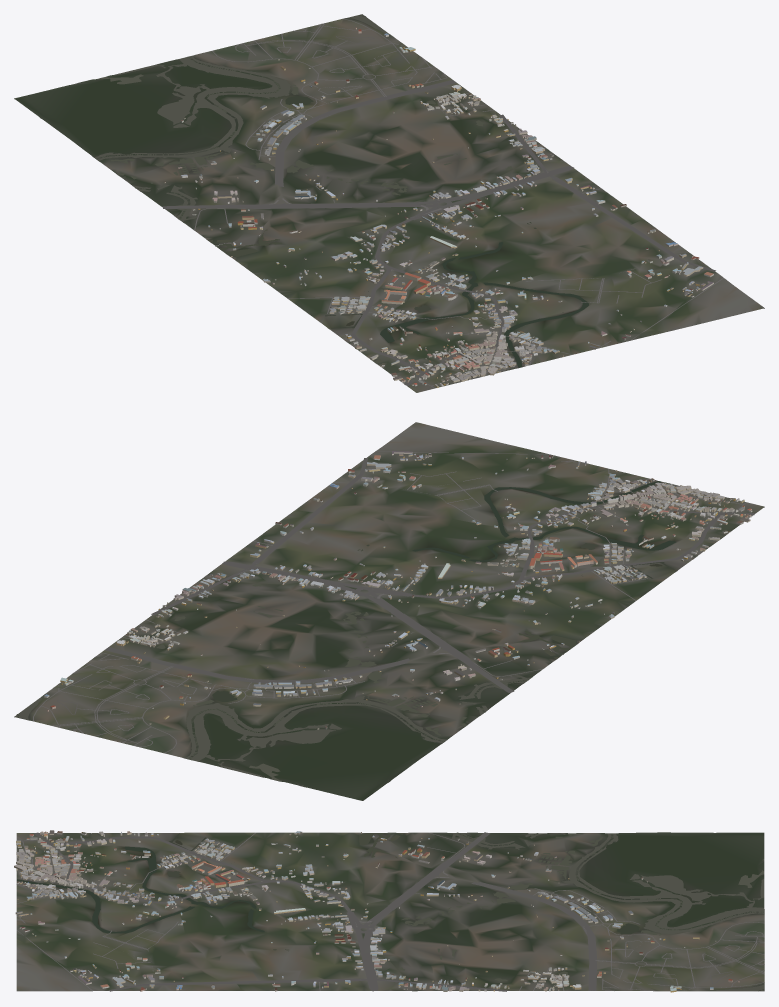
3 renders of one model, top to bottom at view 1: azimuth 30°, elevation 25°; view 2: azimuth 150°, elevation 25°; view 3: azimuth 270°, elevation 25°, orthographic. The views are drawn at different scales.
Parts seen in each view (by area): view 1: ground, buildings, water, roads; view 2: ground, buildings, roads, water; view 3: ground, buildings, roads, water.
Boxes of the visible parts, x1,y1,x2,y2 form: ground: [14, 14, 764, 392]; buildings: [164, 27, 713, 387]; water: [73, 14, 588, 367]; roads: [163, 18, 723, 388]; ground: [14, 422, 764, 800]; buildings: [44, 451, 752, 729]; roads: [33, 451, 754, 753]; water: [15, 481, 723, 786]; ground: [16, 832, 764, 991]; buildings: [14, 830, 739, 992]; roads: [16, 832, 764, 991]; water: [17, 832, 764, 991].
Size of the model in its own units: 1426 by 21.8 by 2813.
